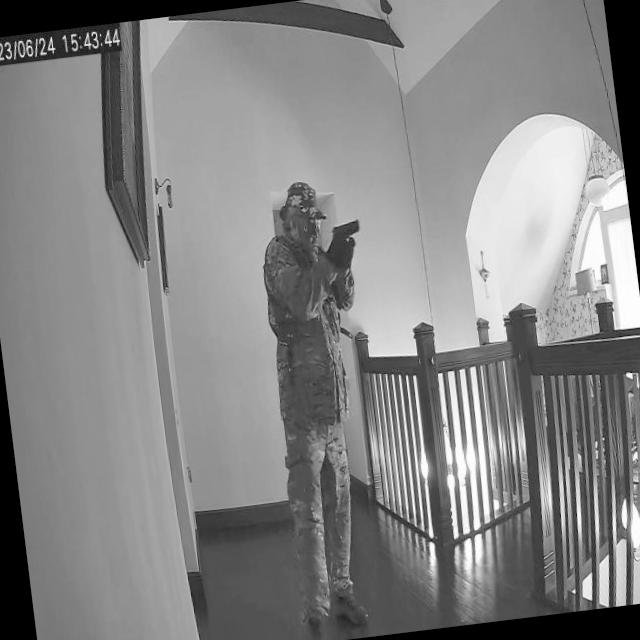gun: (328, 217, 364, 260)
person with a gun: (250, 172, 412, 640)
